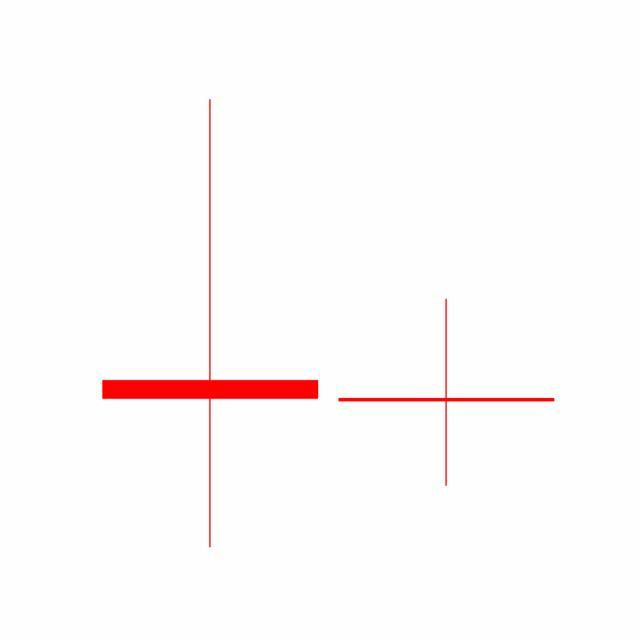Spinning Top: (328, 298, 566, 490)
